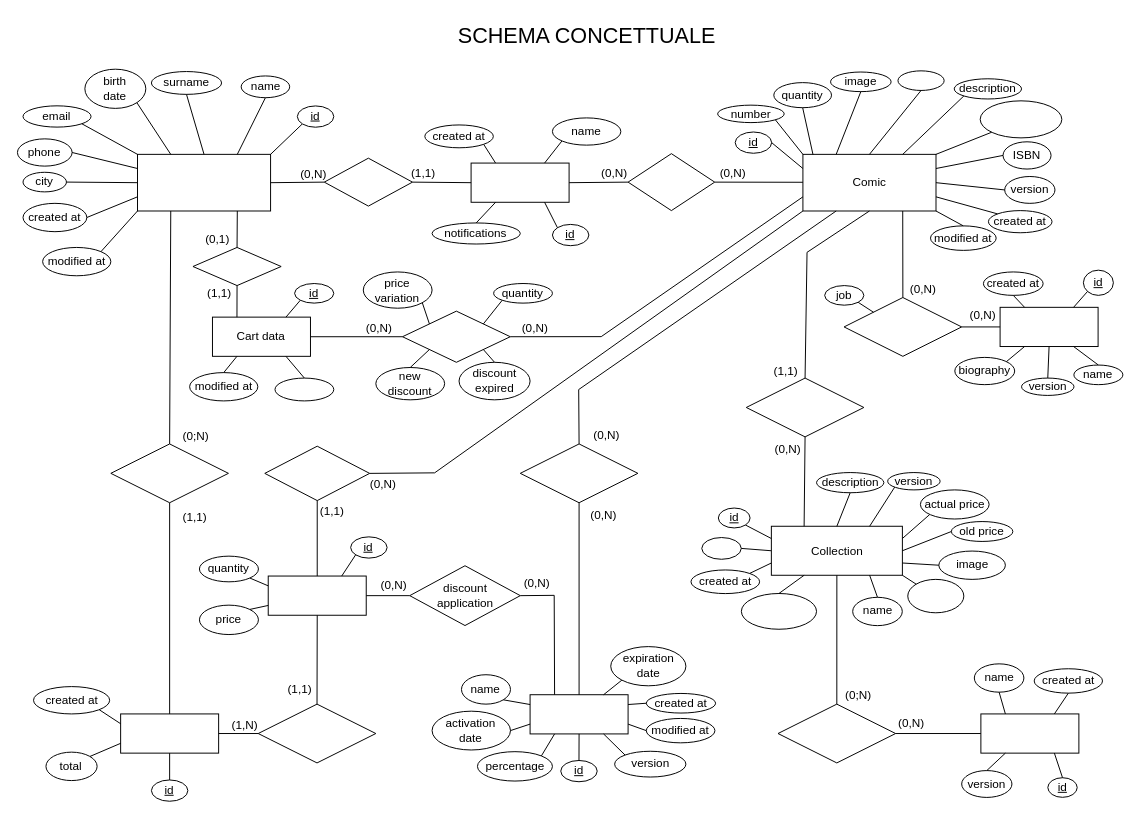
The diagram is 1140 pixels wide and 818 high, and some of its shapes have lost their labels. The centre of each missing label's shape, as x and y in pixels:
Author: point (1048, 326)
authors: point (902, 326)
cart content: point (456, 336)
Category: point (1029, 733)
classification: point (836, 733)
color: point (721, 548)
comic in purchase: point (316, 595)
Discount: point (578, 714)
format and binding: point (778, 611)
list content: point (671, 182)
pages: point (920, 80)
Personal data: point (204, 182)
promotion: point (578, 473)
publication date: point (1020, 119)
purchase: point (169, 733)
size: point (304, 389)
user data: point (236, 266)
Wish list: point (519, 182)
year of release: point (935, 595)
